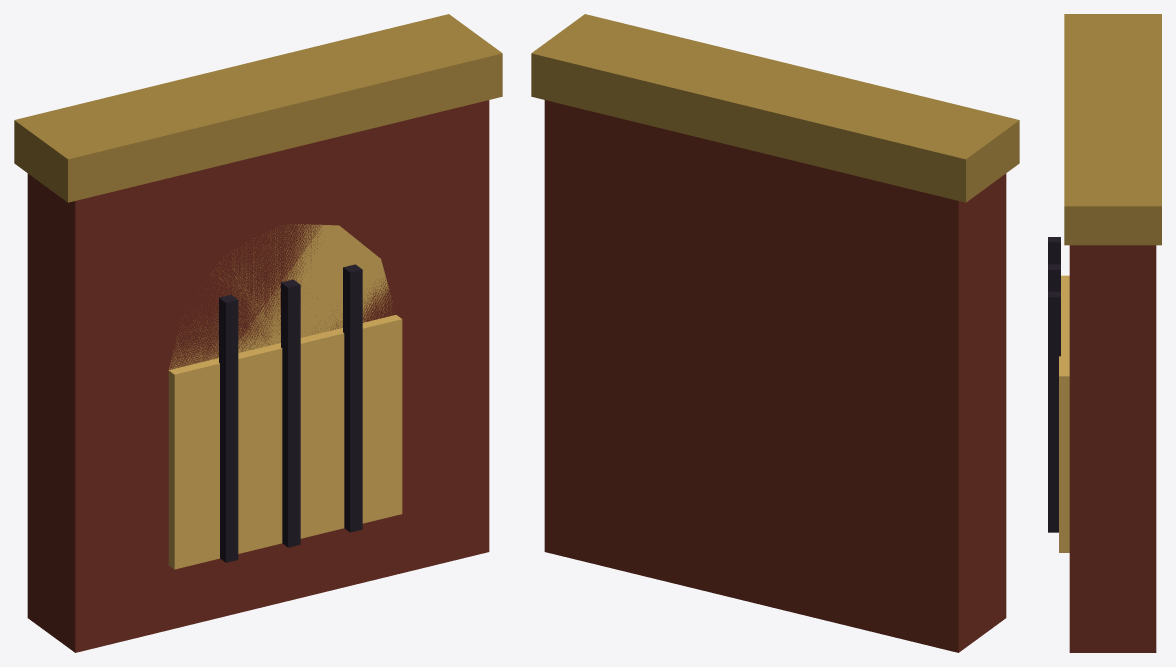
The model's file is kiln_hatch.gltf.
The picture shows the model from 3 angles, left to right: view 1: azimuth 30°, elevation 25°; view 2: azimuth 150°, elevation 25°; view 3: azimuth 270°, elevation 25°; orthographic projection. The views are drawn at different scales.
Visible parts, largest first — view 1: brick, lintel, mouth, arch, grate.2, grate.3, grate; view 2: brick, lintel; view 3: brick, lintel, mouth, grate.3, grate, grate.2.
Boxes of the visible parts, box(x1,y1,x2,y2) form: brick: box(27, 100, 489, 652); lintel: box(14, 14, 502, 202); mouth: box(168, 315, 402, 569); arch: box(169, 224, 392, 369); grate.2: box(281, 279, 300, 547); grate.3: box(343, 264, 362, 532); grate: box(219, 294, 238, 562); brick: box(544, 100, 1006, 652); lintel: box(531, 14, 1019, 202); brick: box(1069, 245, 1156, 652); lintel: box(1064, 14, 1161, 245); mouth: box(1059, 275, 1069, 552); grate.3: box(1048, 291, 1060, 532); grate: box(1048, 237, 1060, 264); grate.2: box(1048, 264, 1060, 291).
Size of the model in its own units: 2.1 by 2.3 by 0.525.
